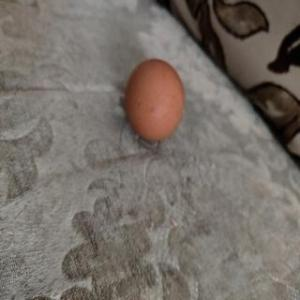egg: (122, 58, 186, 144)
